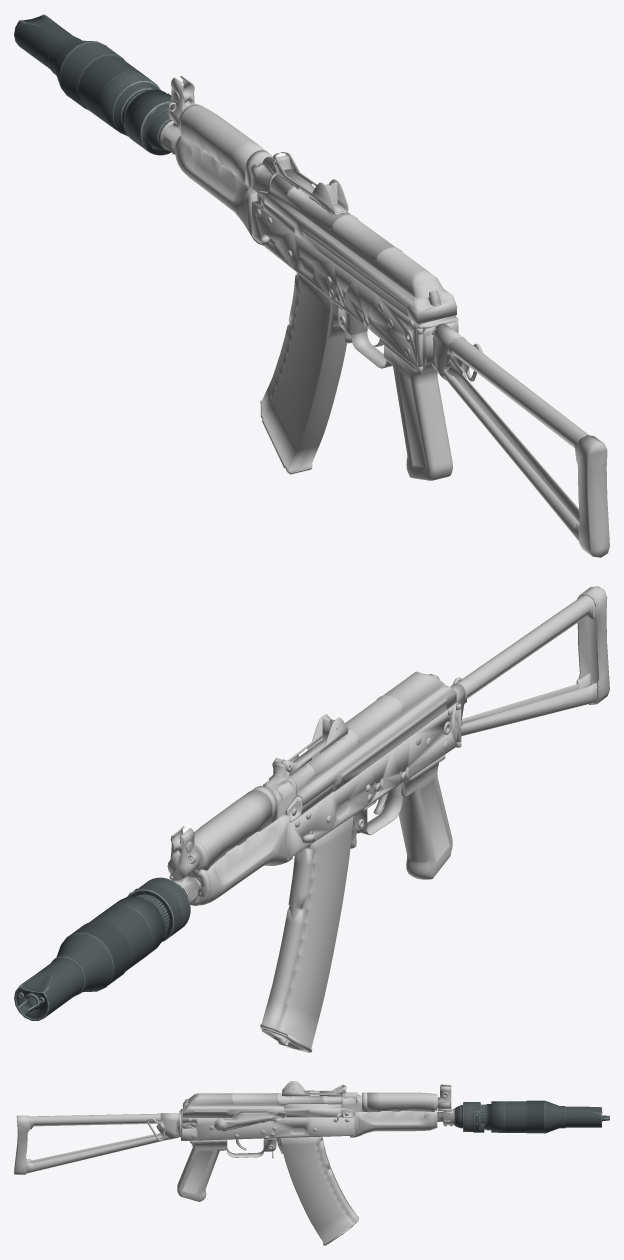
File: weapon.gltf
The picture shows the model from 3 angles, top to bottom: view 1: azimuth 30°, elevation 25°; view 2: azimuth 150°, elevation 25°; view 3: azimuth 270°, elevation 25°; orthographic projection. The views are drawn at different scales.
Parts seen in each view (by area): view 1: part_11_low, PBS-4_low, part_2_low, part_16_3_low, part_1_low, part_10_low, part_16_4_low, part_3_2_low, part_3_low, part_7_low, part_4_low, part_12_low (+3 smaller); view 2: part_11_low, PBS-4_low, part_2_low, part_1_low, part_16_3_low, part_10_low, part_3_low, part_3_2_low, part_16_4_low, part_4_low, part_7_low, part_12_low (+2 smaller); view 3: part_11_low, PBS-4_low, part_1_low, part_16_3_low, part_2_low, part_10_low, part_3_low, part_3_2_low, part_8_low, part_9_low, part_16_4_low, part_4_low (+5 smaller).
Boxes of the visible parts, <box> form: part_11_low: <box>260,272,346,474</box>; PBS-4_low: <box>14,14,172,155</box>; part_2_low: <box>264,173,456,324</box>; part_16_3_low: <box>443,337,588,541</box>; part_1_low: <box>252,201,458,370</box>; part_10_low: <box>380,339,452,480</box>; part_16_4_low: <box>576,435,609,557</box>; part_3_2_low: <box>180,104,269,183</box>; part_3_low: <box>176,136,261,244</box>; part_7_low: <box>261,152,348,245</box>; part_4_low: <box>160,76,194,154</box>; part_12_low: <box>330,300,392,368</box>; part_11_low: <box>260,816,353,1052</box>; PBS-4_low: <box>14,877,190,1020</box>; part_2_low: <box>289,671,456,806</box>; part_1_low: <box>289,702,457,858</box>; part_16_3_low: <box>456,595,597,736</box>; part_10_low: <box>398,754,452,879</box>; part_3_low: <box>199,814,292,905</box>; part_3_2_low: <box>194,790,272,870</box>; part_16_4_low: <box>577,586,609,704</box>; part_4_low: <box>167,826,199,905</box>; part_7_low: <box>272,714,348,843</box>; part_12_low: <box>354,783,402,834</box>; part_11_low: <box>276,1136,358,1245</box>; PBS-4_low: <box>454,1100,609,1133</box>; part_1_low: <box>181,1109,354,1140</box>; part_16_3_low: <box>25,1113,168,1173</box>; part_2_low: <box>183,1093,341,1117</box>; part_10_low: <box>177,1139,227,1201</box>; part_3_low: <box>350,1110,434,1137</box>; part_3_2_low: <box>367,1092,434,1112</box>; part_8_low: <box>214,1112,286,1131</box>; part_9_low: <box>277,1104,341,1117</box>; part_16_4_low: <box>14,1115,29,1174</box>; part_4_low: <box>437,1084,454,1126</box>.
Bounding box in the file's own units: 47.11 × 226 × 759.
